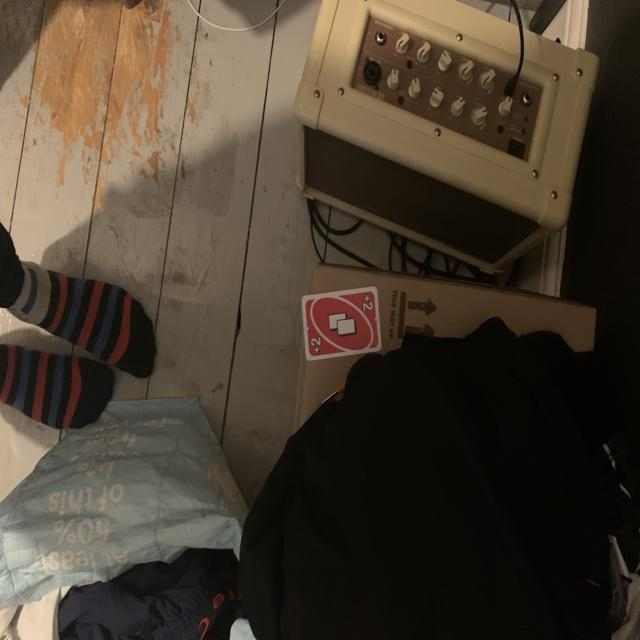lred-20: (358, 293, 375, 313)
